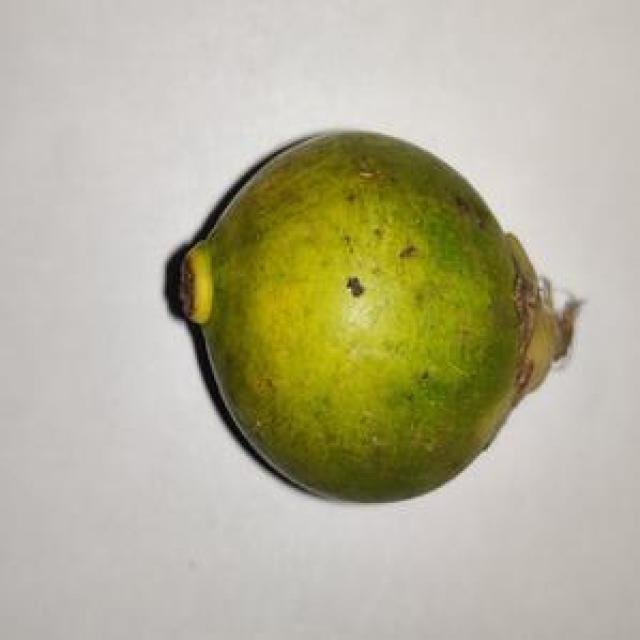damaged: (167, 131, 580, 501)
